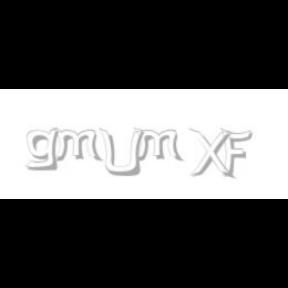F: (220, 128, 252, 178)
U: (98, 128, 144, 178)
X: (188, 128, 232, 180)
g: (26, 128, 62, 171)
m: (52, 128, 104, 162), (132, 128, 184, 162)
